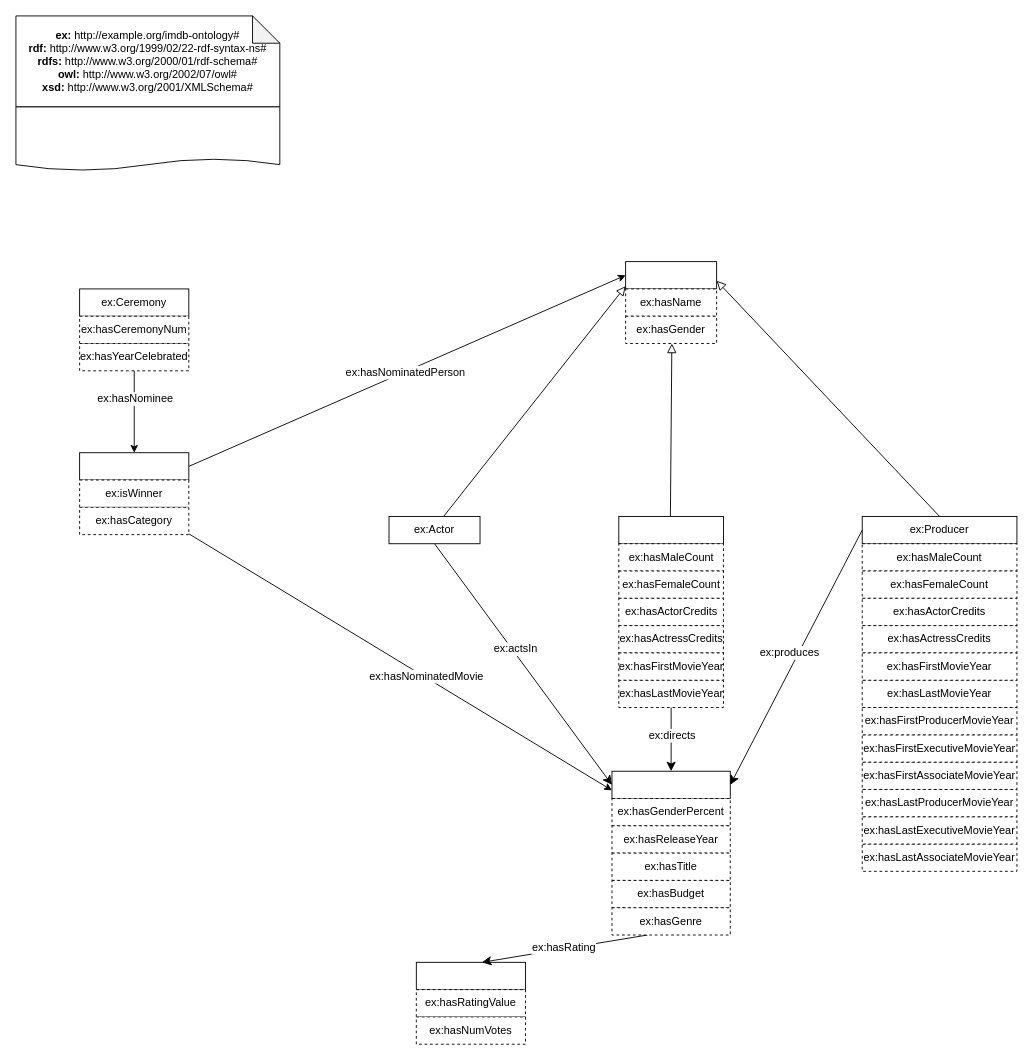
This 1033x1060 diagram has some shape labels left out. The centre of each missing label's shape, as x and y in pixels:
"ex:Director" belongs at point (670, 530).
"ex:Movie" belongs at point (670, 784).
"ex:Nominee" belongs at point (134, 466).
"ex:Person" belongs at point (671, 275).
"ex:Rating" belongs at point (470, 975).
"owl:Ontology: <http://example.org/imdb-ontology#>" belongs at point (147, 138).
